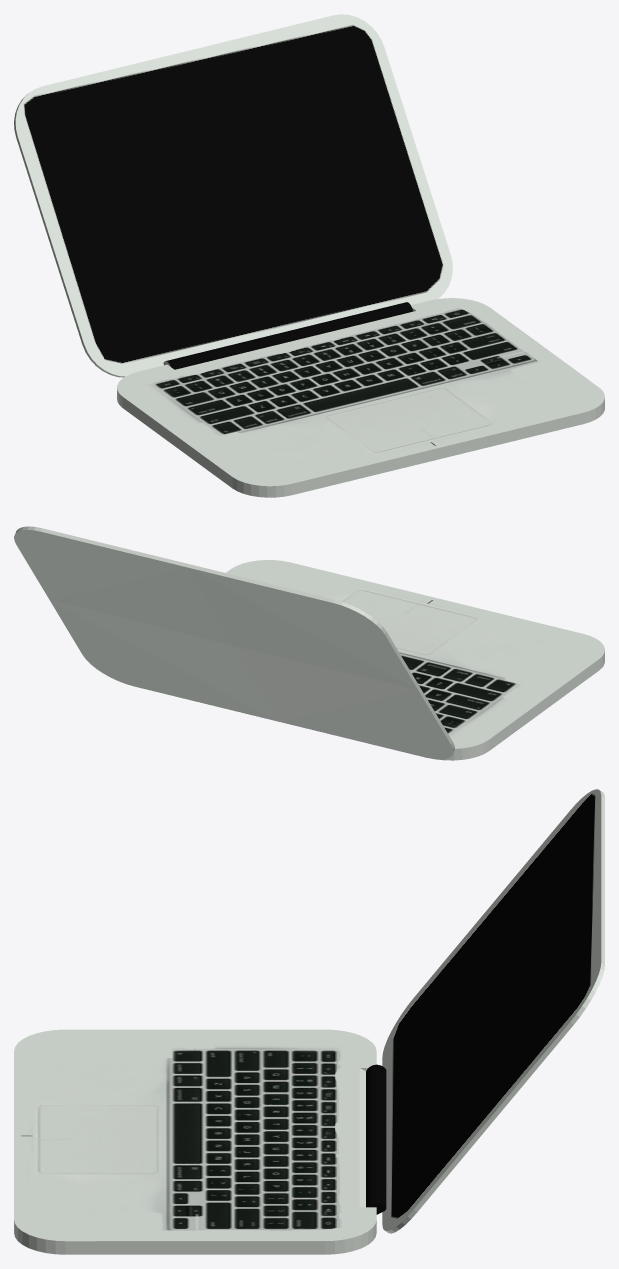
The model's file is laptop.glb.
3 views of the same model, one above another, from view 1: azimuth 30°, elevation 25°; view 2: azimuth 150°, elevation 25°; view 3: azimuth 270°, elevation 25° (orthographic). The views are drawn at different scales.
Visible parts, largest first — view 1: computer; view 2: computer; view 3: computer.
Part boxes in pixels (x1=…): computer: x1=14, y1=14, x2=604, y2=497; computer: x1=14, y1=526, x2=604, y2=760; computer: x1=14, y1=789, x2=604, y2=1254.
Bounding box in the file's own units: 1.22 × 0.726 × 1.44.
1 material, 1 textured.
